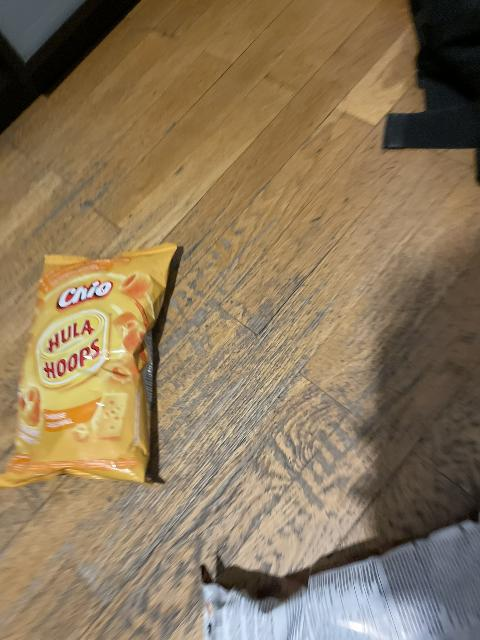Chio Hula Hoops Cheese 70g: (2, 246, 180, 486)
Lays Beef Grilled Ribs 125g: (207, 511, 480, 640)
